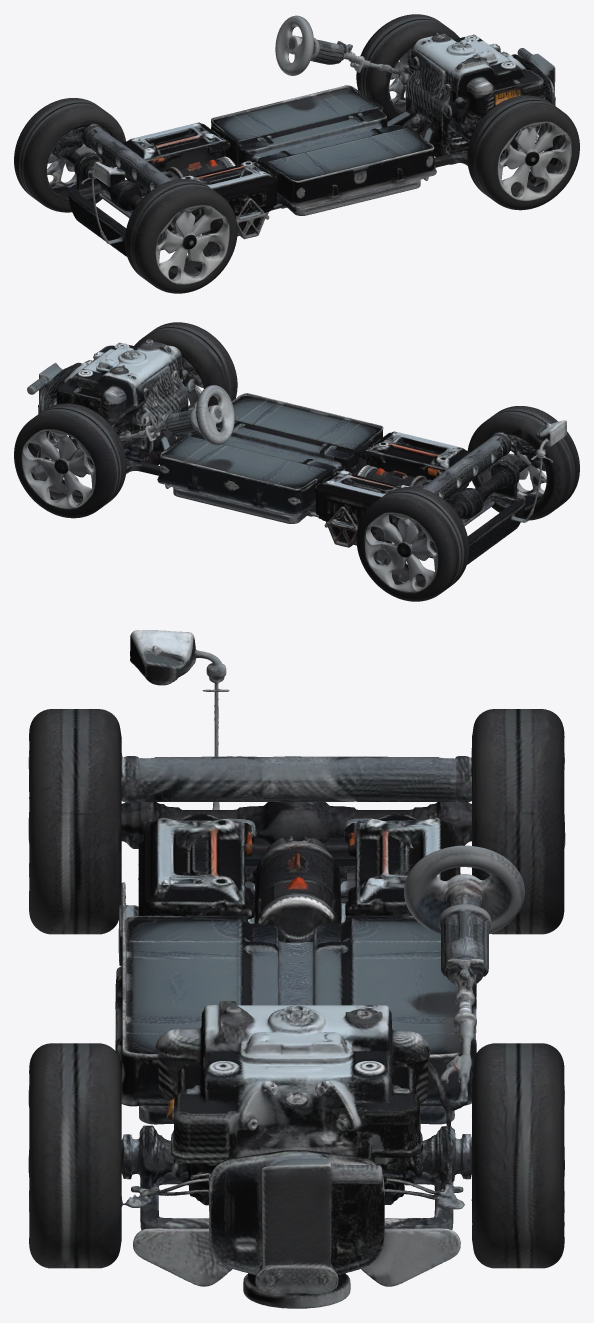
File: sasis-mesin-hq.glb
3 views of the same model, one above another, from view 1: azimuth 30°, elevation 25°; view 2: azimuth 150°, elevation 25°; view 3: azimuth 270°, elevation 25° (orthographic). The views are drawn at different scales.
Bounding box in the file's own units: 1.9 × 0.5388 × 0.9047.
Materials: 1 (1 with a texture image).
